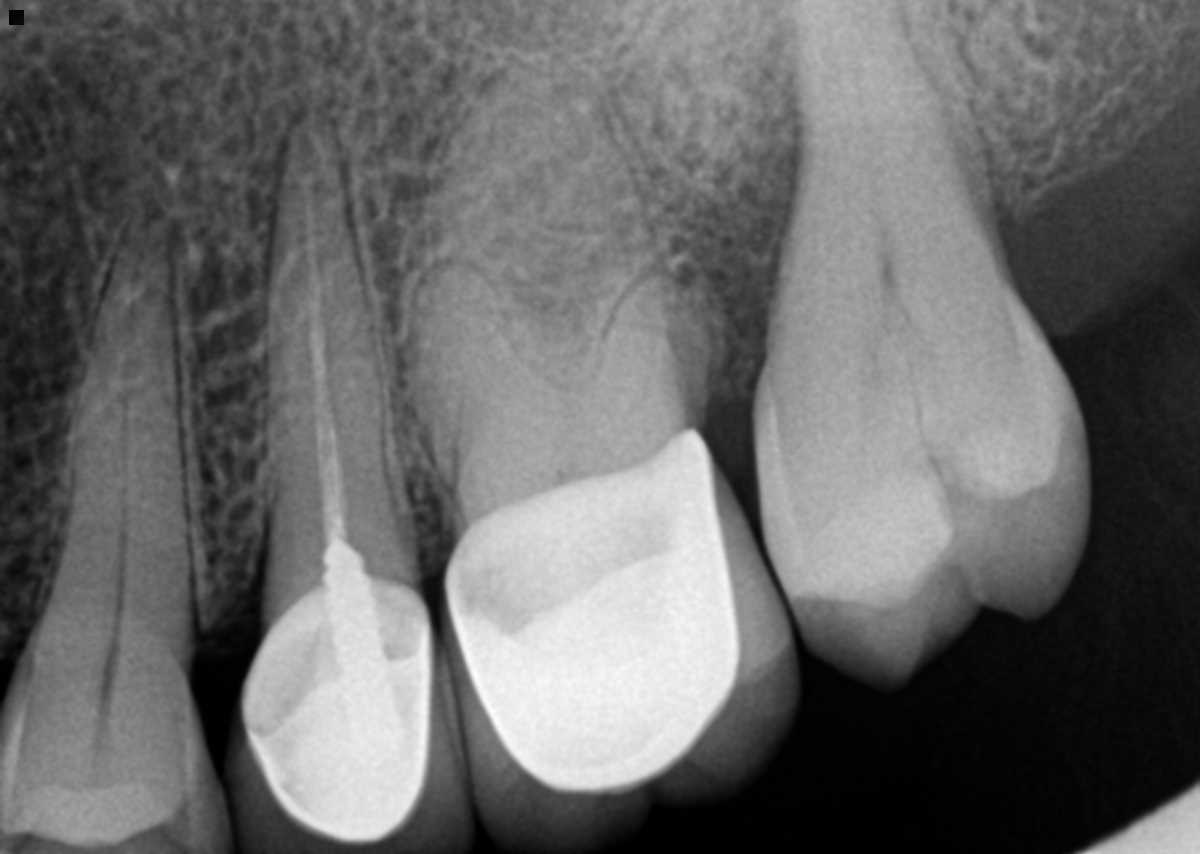Distal Root: (592, 252, 716, 429)
Main Canal: (874, 132, 915, 338), (108, 334, 135, 638)
Main Root: (765, 0, 999, 362), (36, 211, 199, 645), (261, 113, 414, 565)
Mesial Root: (402, 265, 565, 485)
Palatal Root: (436, 46, 685, 518)
Root Canal Filling: (305, 173, 342, 540)
